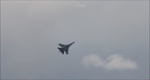maybay_muctieu: (58, 40, 76, 55)
